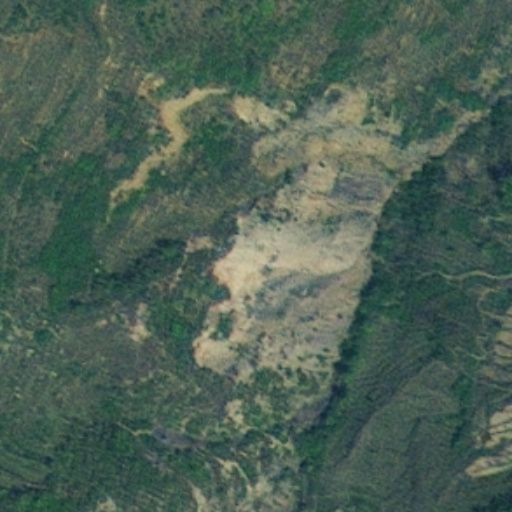landslide: (107, 79, 403, 373)
